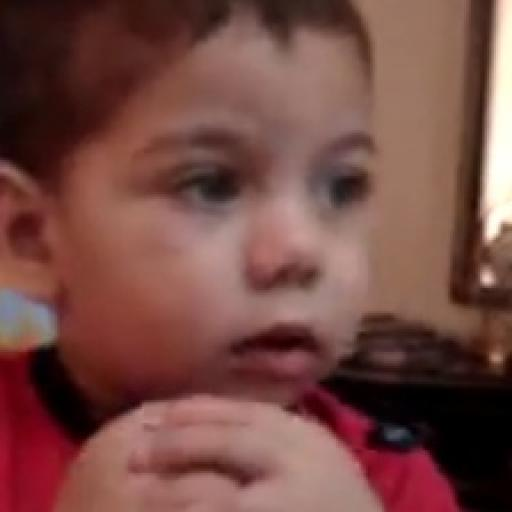Autism: (27, 27, 402, 441)
